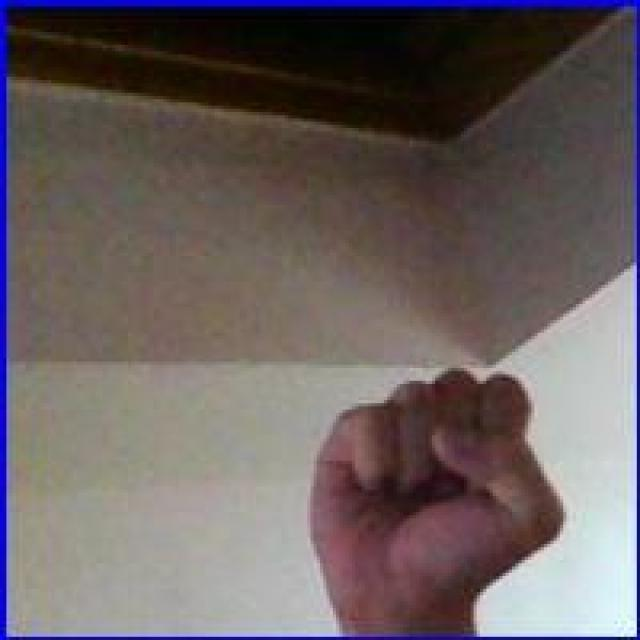S: (302, 365, 568, 637)
